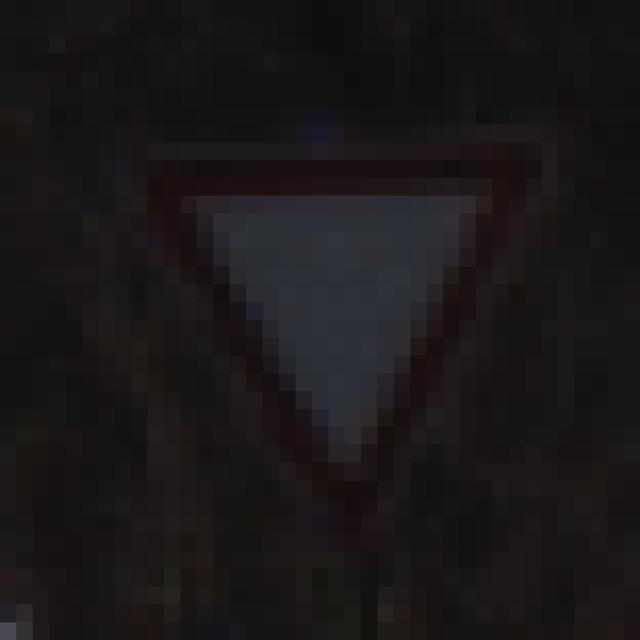Give Way: (99, 90, 559, 552)
